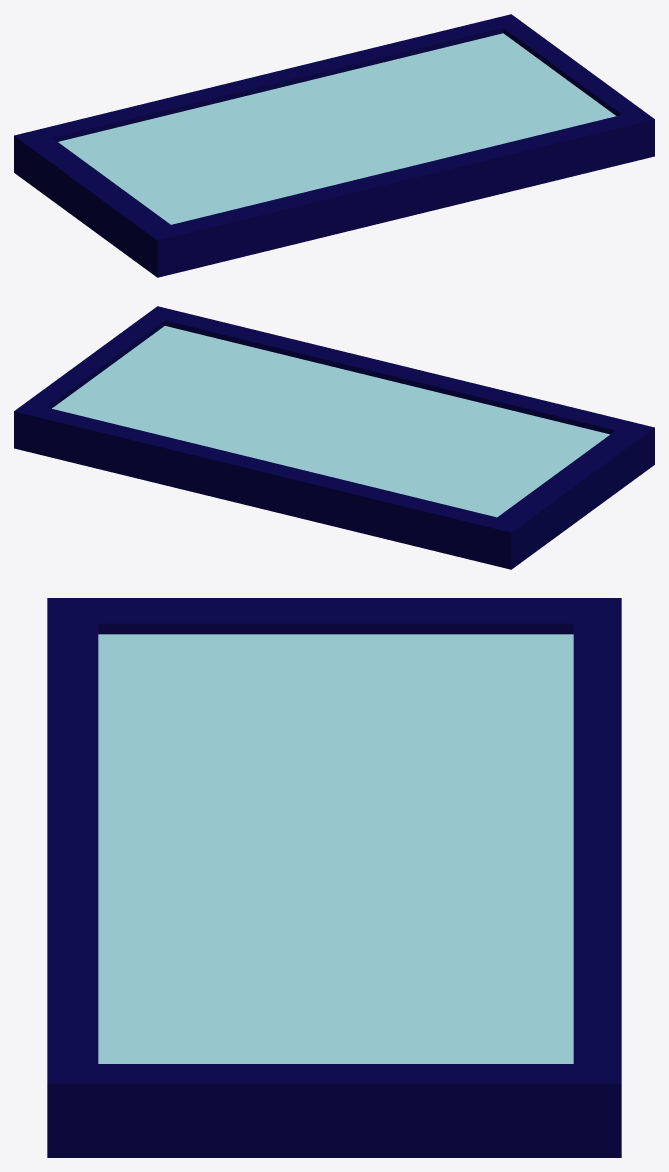
Rendered from Phone_Final.fbx.
3 views of the same model, one above another, from view 1: azimuth 30°, elevation 25°; view 2: azimuth 150°, elevation 25°; view 3: azimuth 270°, elevation 25° (orthographic). The views are drawn at different scales.
Parts seen in each view (by area): view 1: screen open, phone base; view 2: screen open, phone base; view 3: screen open, phone base.
Boxes of the visible parts, x1,y1,x2,y2 form: screen open: (58,33,616,224); phone base: (14,14,654,277); screen open: (52,326,609,517); phone base: (14,306,654,569); screen open: (98,634,573,1063); phone base: (47,598,621,1157).
Bounding box in the file's own units: 0.1778 × 0.0127 × 0.0889.
